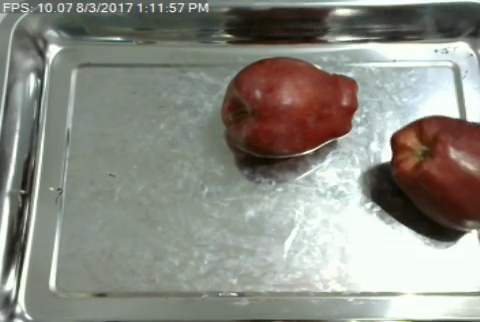Apple: (213, 54, 365, 161), (385, 113, 480, 230)
